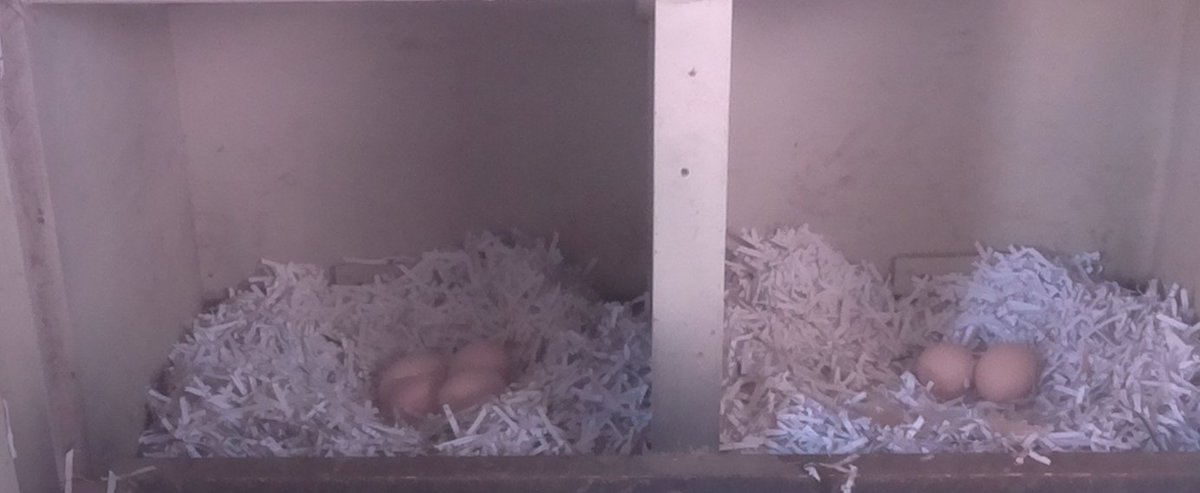egg: (973, 339, 1041, 406), (913, 337, 975, 404), (436, 364, 512, 413), (373, 349, 445, 393), (444, 339, 521, 380), (378, 374, 441, 424)
